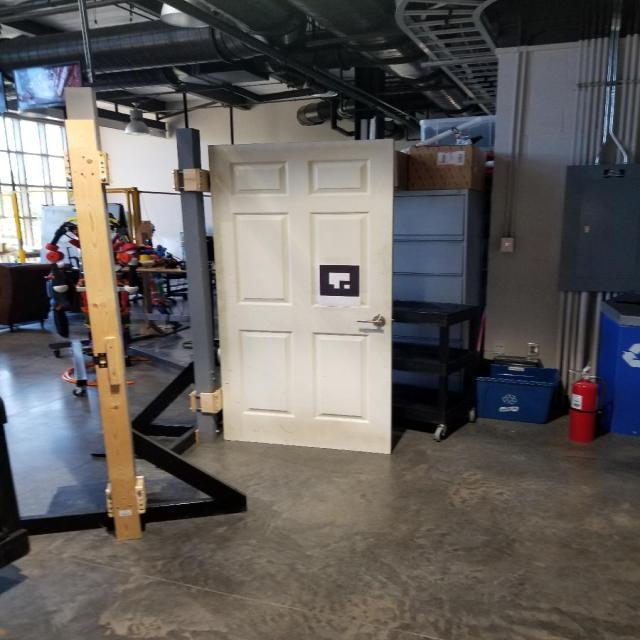door: (205, 136, 399, 456), (356, 314, 388, 329)
